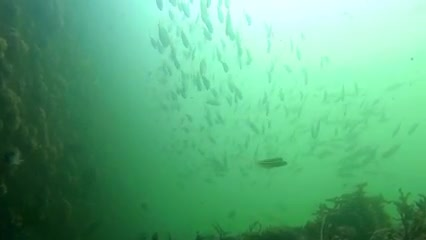smallfish: (251, 155, 290, 174)
